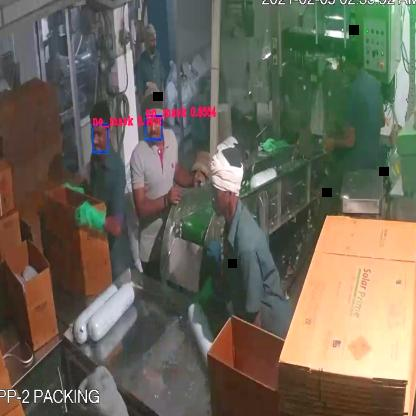glove: (65, 185, 110, 242)
no_glove: (130, 176, 183, 231), (322, 122, 360, 162), (170, 159, 208, 196)
